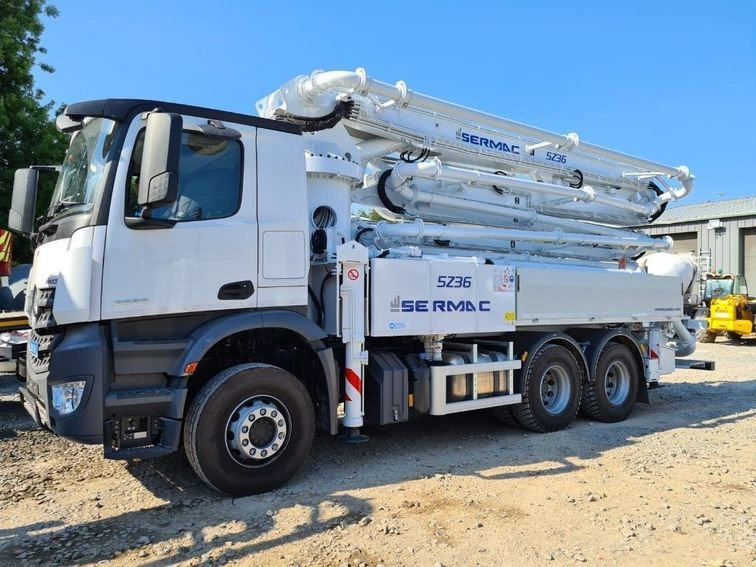Semi: (7, 68, 714, 496)
